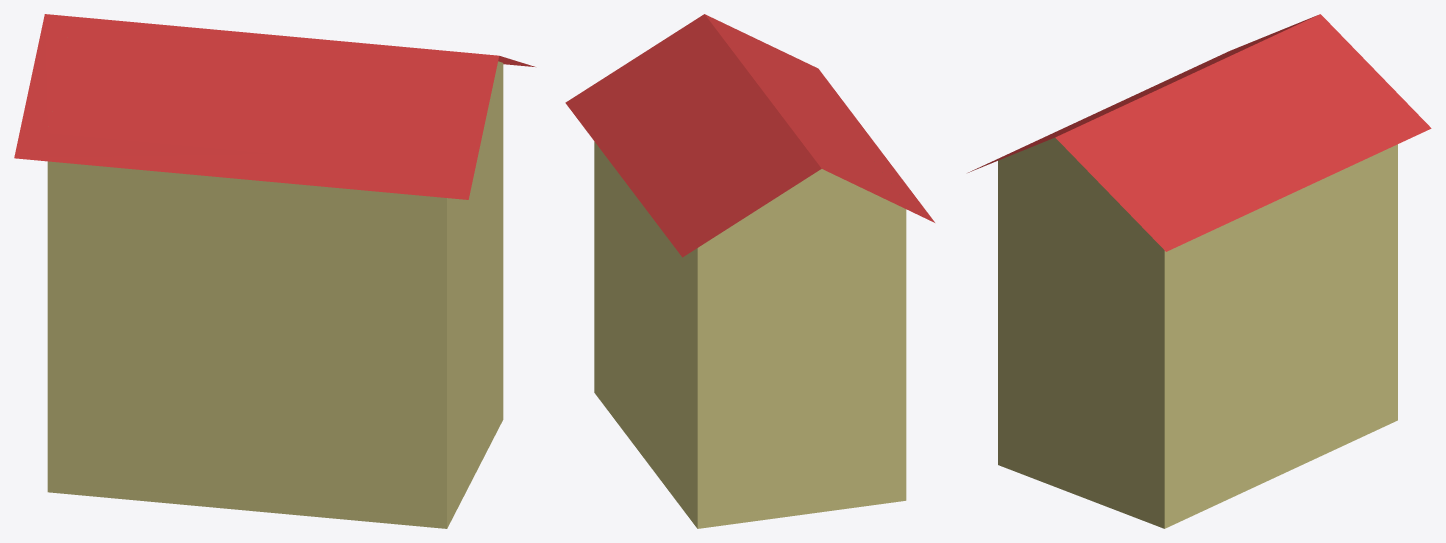
3 views of the same model, side by side, from view 1: azimuth 30°, elevation 25°; view 2: azimuth 150°, elevation 25°; view 3: azimuth 270°, elevation 25° (orthographic). The views are drawn at different scales.
Parts seen in each view (by area): view 1: group_5, group_3, group_4; view 2: group_5, group_3, group_4; view 3: group_5, group_3.
Boxes of the visible parts, x1,y1,x2,y2 form: group_5: (47,61,503,528); group_3: (16,16,498,199); group_4: (14,14,534,158); group_5: (594,141,906,528); group_3: (565,14,934,257); group_4: (703,14,934,222); group_5: (998,137,1397,528); group_3: (968,14,1431,251).
Size of the model in its own units: 14.95 by 14.69 by 12.59.
